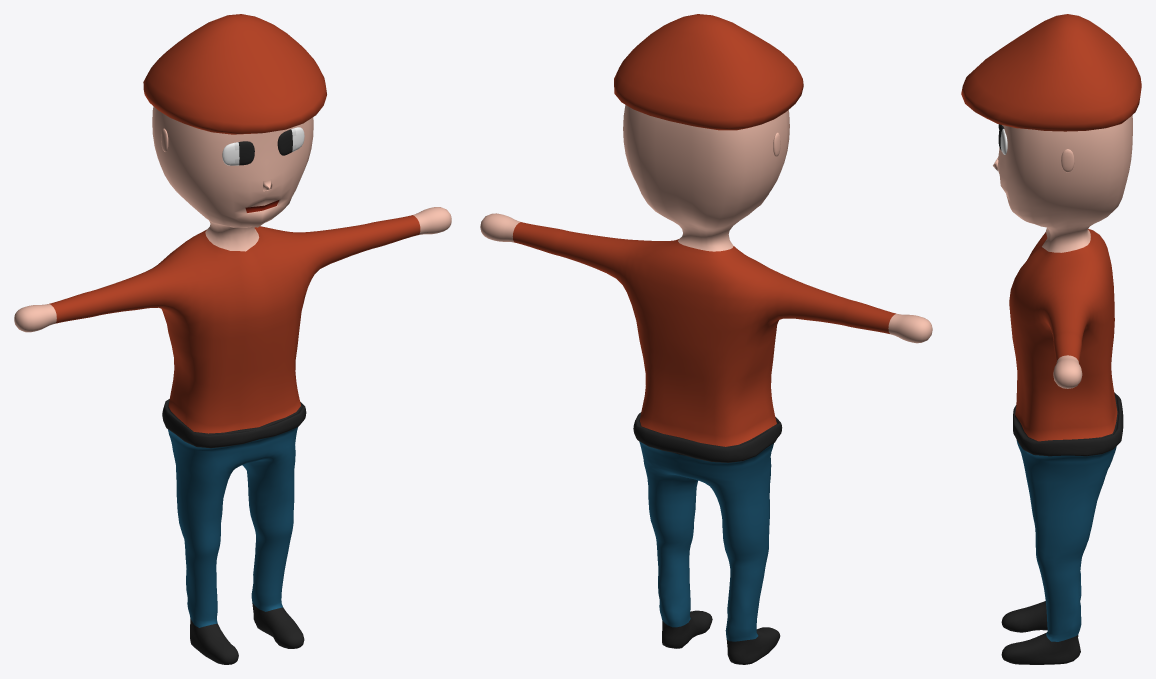
File: PersonagemModel.fbx
3 renders of one model, left to right at view 1: azimuth 30°, elevation 25°; view 2: azimuth 150°, elevation 25°; view 3: azimuth 270°, elevation 25°, orthographic. The views are drawn at different scales.
Visible parts, largest first — view 1: Boneco.001, ChapeuBoneco.001; view 2: Boneco.001, ChapeuBoneco.001; view 3: Boneco.001, ChapeuBoneco.001.
Part boxes in pixels (x1,y1,x2,y2): Boneco.001: [14, 106, 451, 664]; ChapeuBoneco.001: [143, 14, 326, 134]; Boneco.001: [480, 105, 932, 664]; ChapeuBoneco.001: [614, 14, 803, 130]; Boneco.001: [993, 115, 1132, 664]; ChapeuBoneco.001: [961, 14, 1141, 131].
Bounding box in the file's own units: 110 × 150 × 39.31.
Materials: 1 (1 with a texture image).
